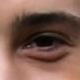eye: (36, 36, 54, 47)
